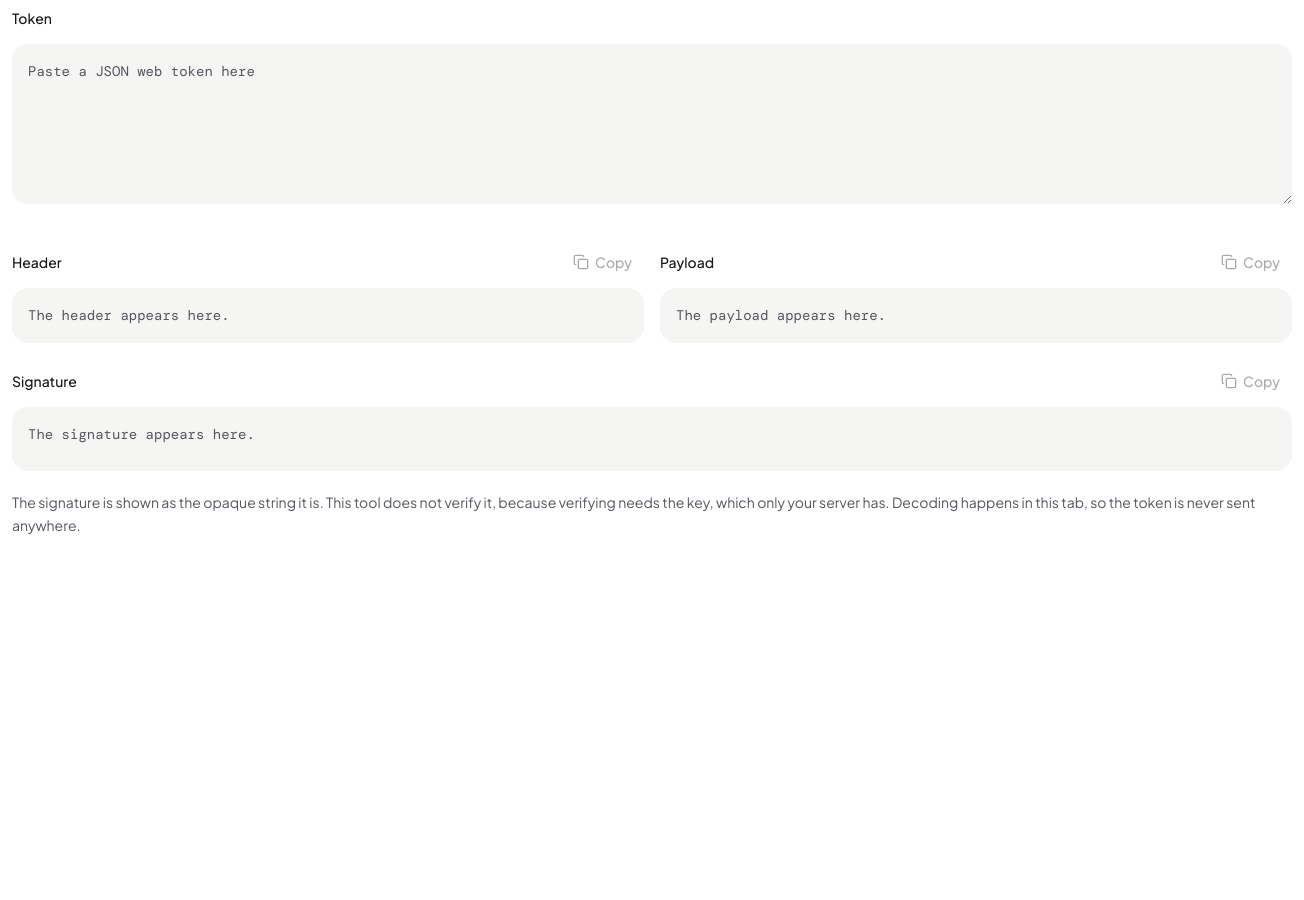
Test: <JwtDecoderTool /> › should show the header, the claims and the expiry of a pasted token
Click the text box with placeholder "Paste a JSON web token here" at coordinates (652, 124), box x1=12 y1=44 x2=1292 y2=204
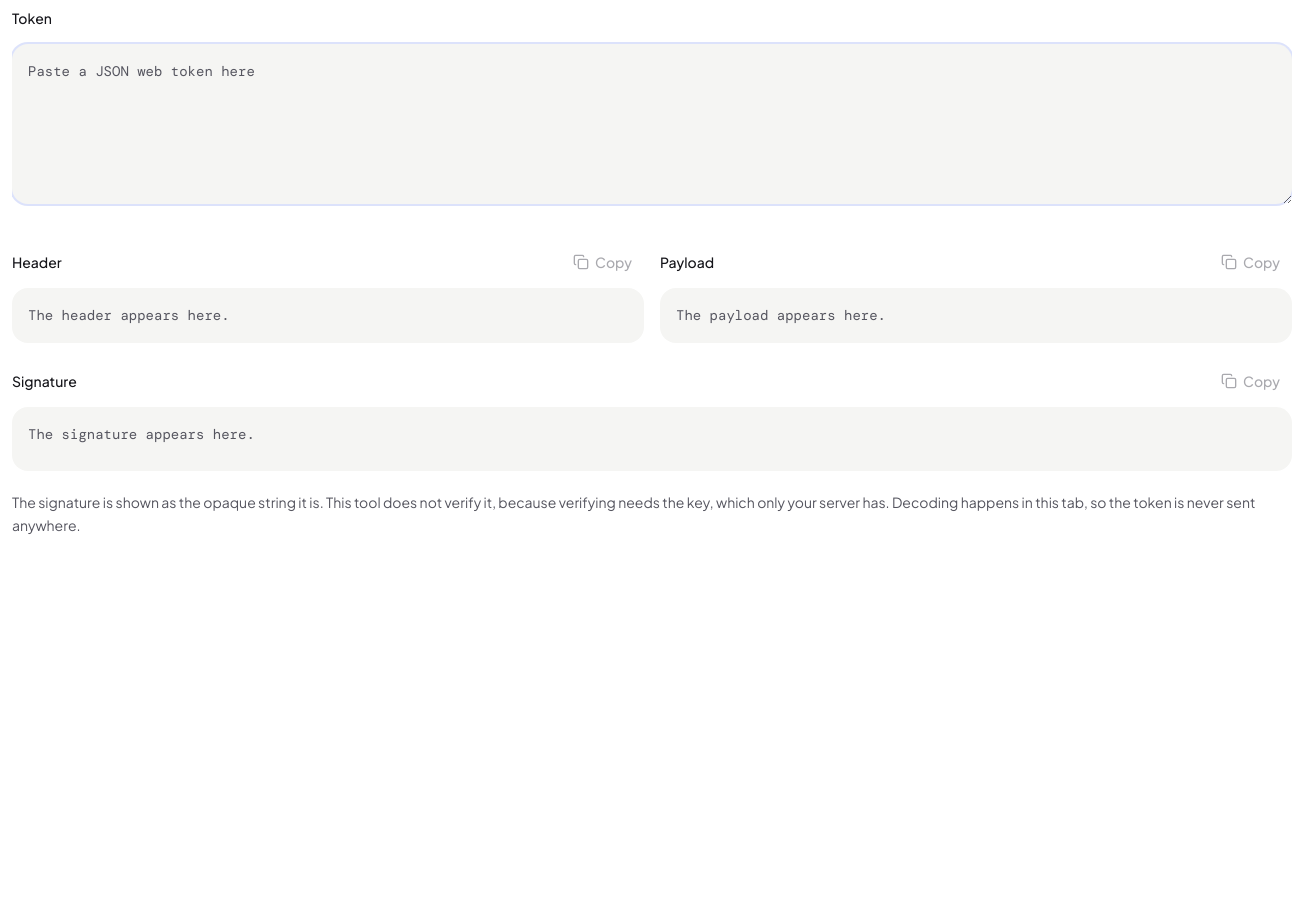
Type keys "eyJhbGciOiJIUzI1NiIsInR5cCI6IkpXVCJ9.eyJzdWIiOiIxMjM0NTY3ODkwIiwibmFtZSI6IkphbmUgRG9lIiwiaXNzIjoidG9vbGh1dCIsImlhdCI6MTUxNjIzOTAyMiwiZXhwIjoxNTE2MjQyNjIyfQ.SflKxwRJSMeKKF2QT4fwpMeJf36POk6yJV_adQssw5c"
(page scrolled)
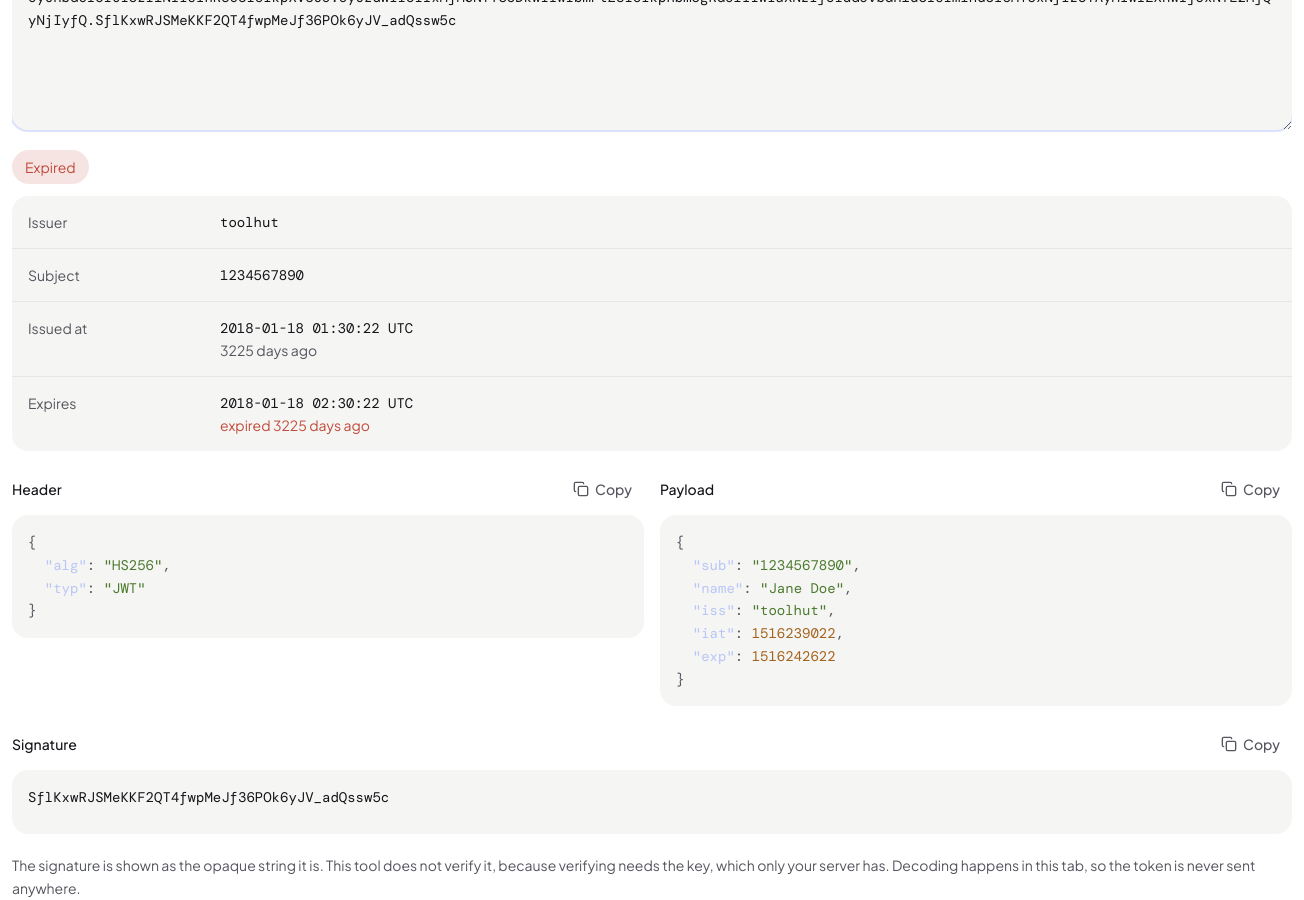
Expected: the element named "Header" shows "\"alg\": \"HS256\"", x1=12 y1=515 x2=644 y2=638
Expected: the text "Expired" is shown, x1=12 y1=150 x2=89 y2=184
Expected: the text "Issuer" is shown, x1=28 y1=213 x2=67 y2=231
